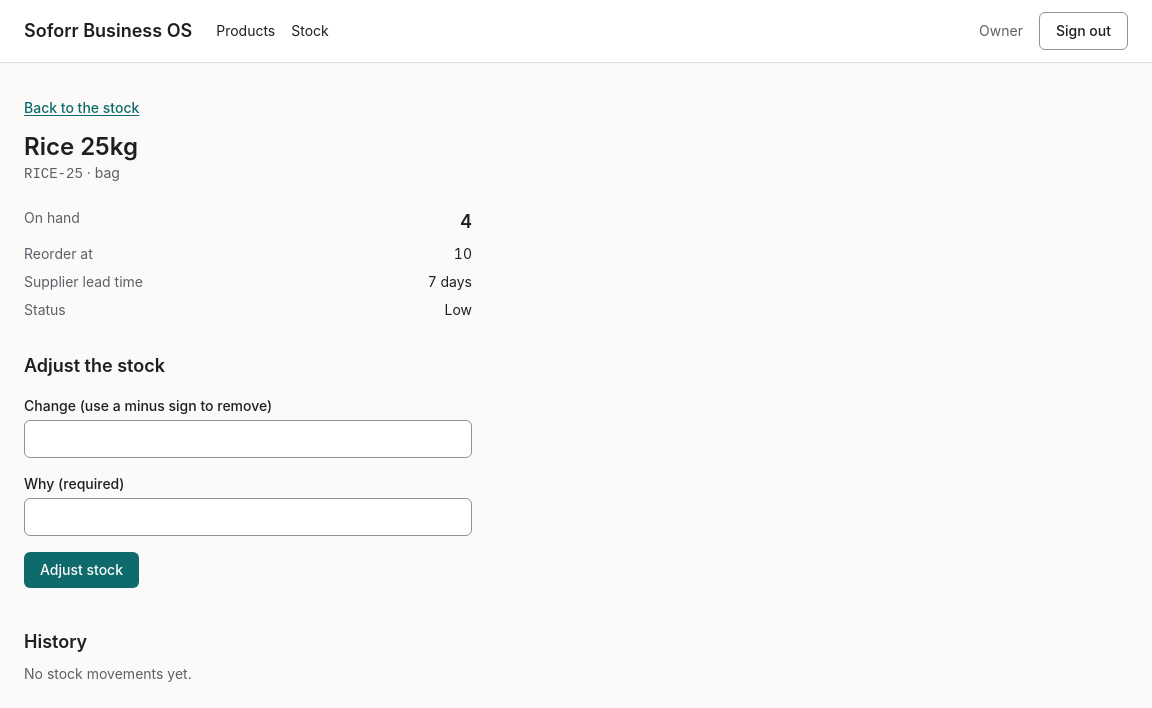
Test: adjusting the stock › keeps the same adjustment id when a try is lost, so trying again cannot adjust twice
Type "6" into the field labelled "Change (use a minus sign to remove)" at (248,439), box 24,420 -> 472,458
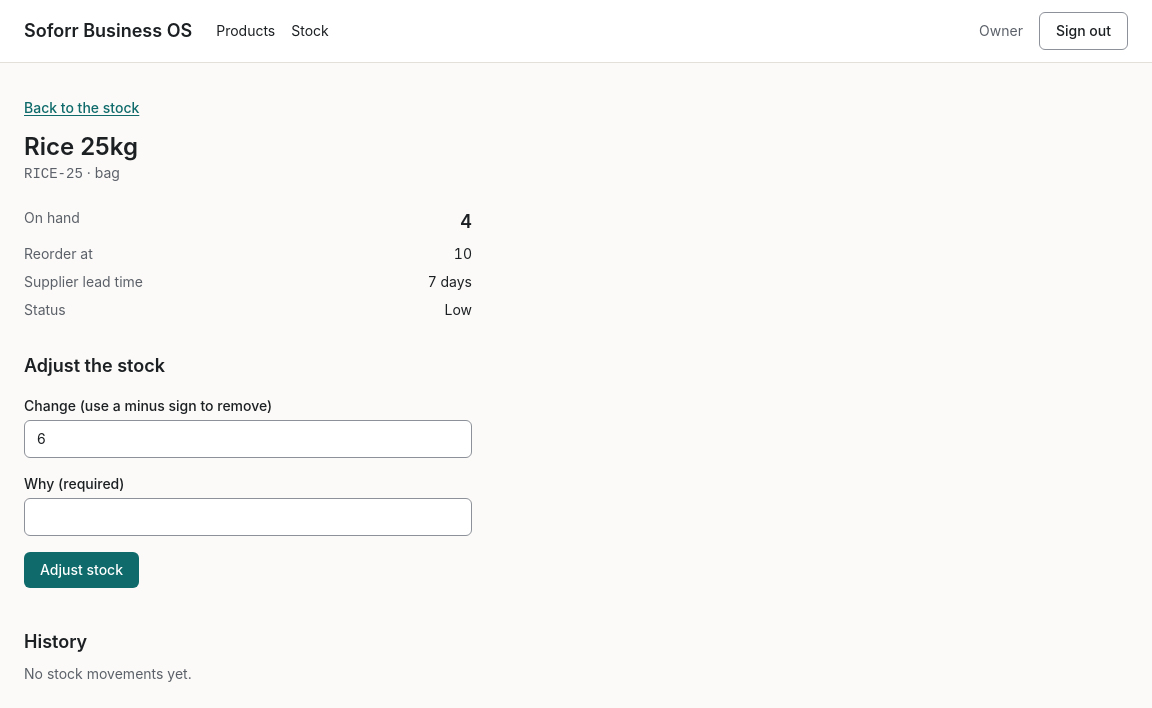
Type "Counted the shelf" into the field labelled "Why (required)" at (248,517), box 24,498 -> 472,536
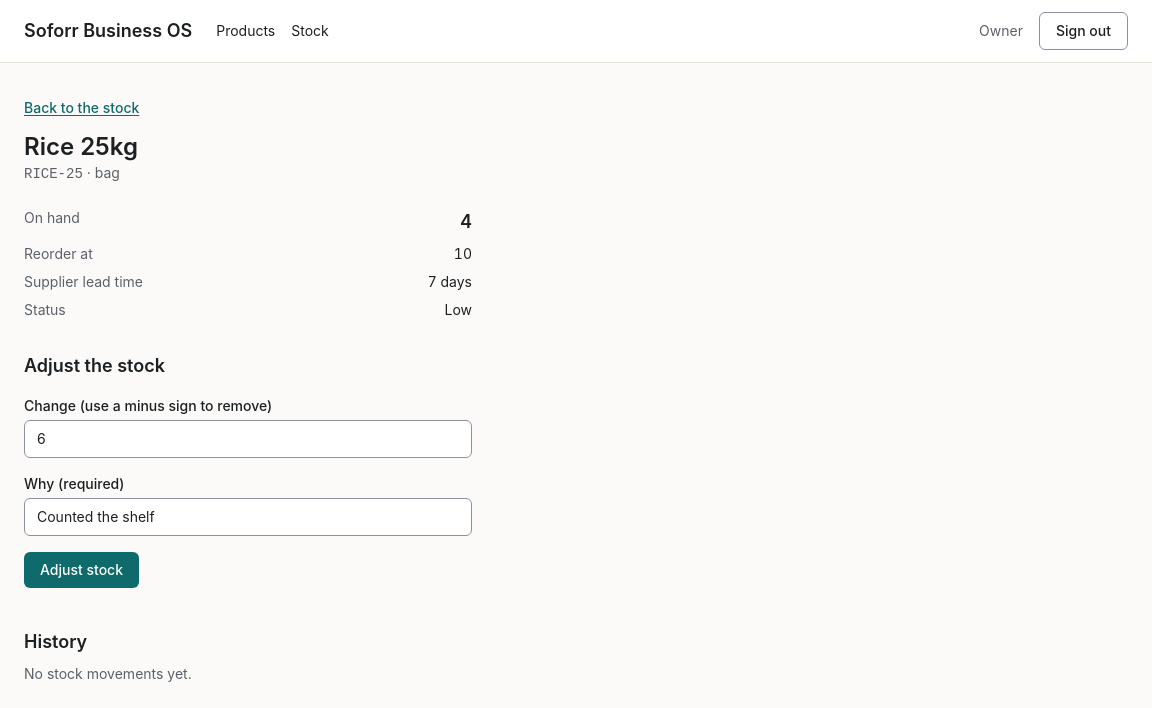
Submit the form, box 24,352 -> 472,588
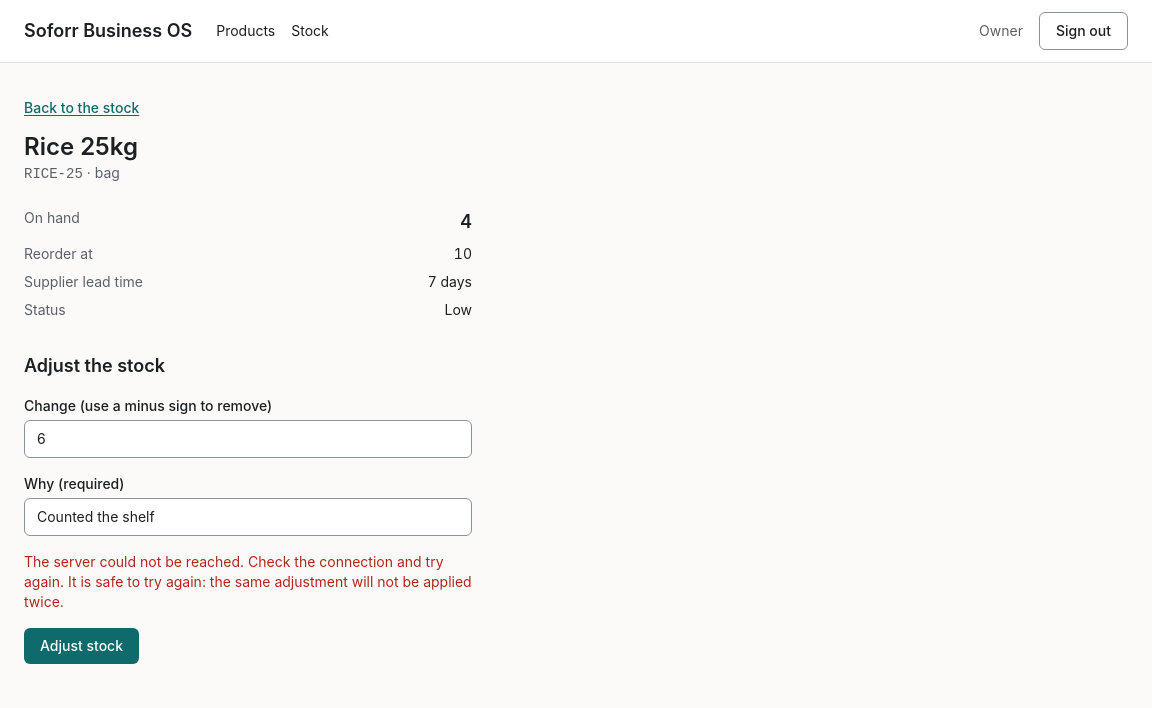
Submit the form, box 24,352 -> 472,664
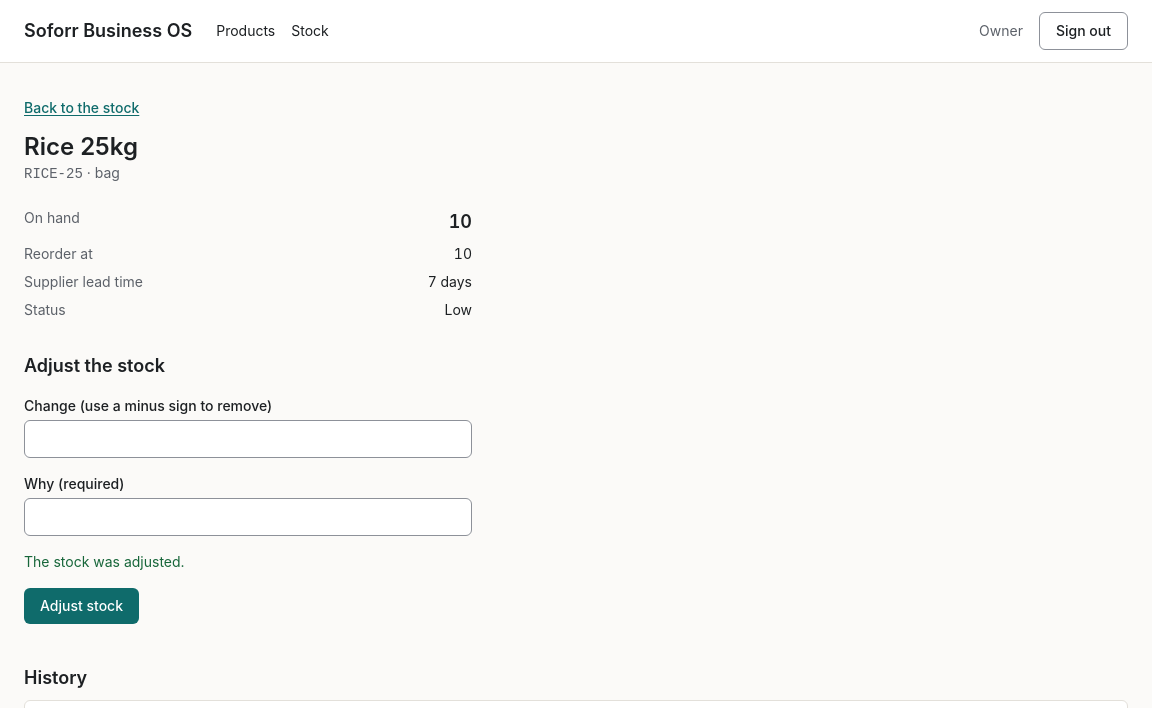
Result: the 1st text "10" is shown at 449,211 -> 472,232
